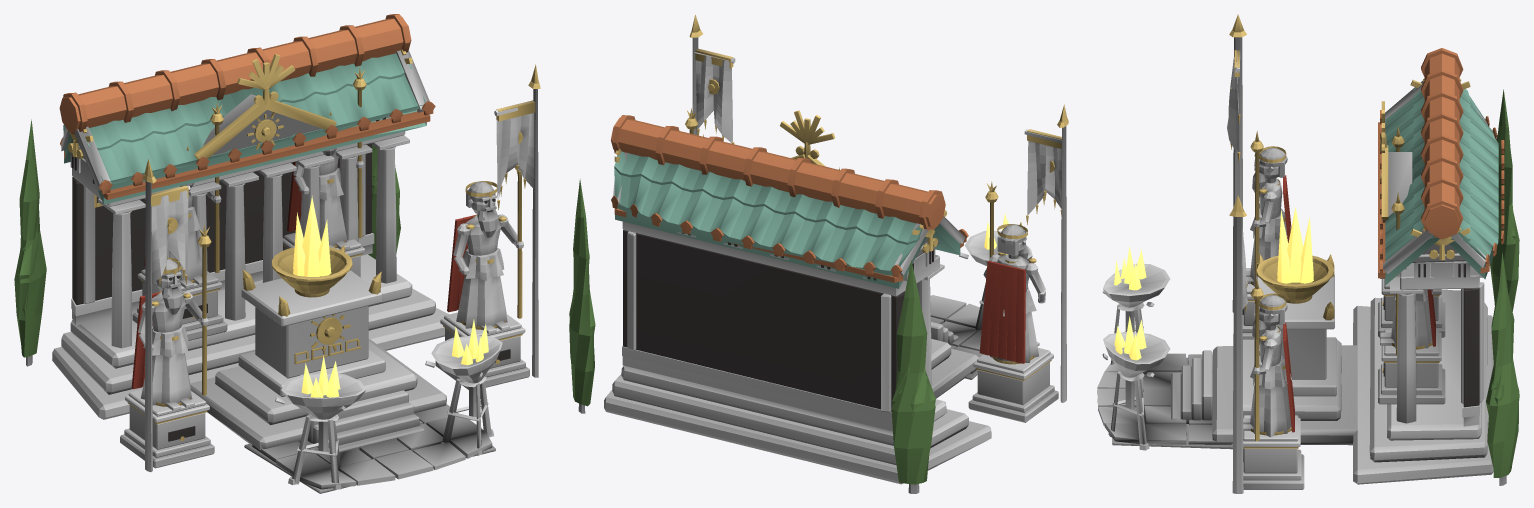
The model's file is altar-of-kings-l3.glb.
The picture shows the model from 3 angles, left to right: view 1: azimuth 30°, elevation 25°; view 2: azimuth 150°, elevation 25°; view 3: azimuth 270°, elevation 25°; orthographic projection. The views are drawn at different scales.
Parts seen in each view (by area): view 1: altar-of-kings-l3; view 2: altar-of-kings-l3; view 3: altar-of-kings-l3.
Part boxes in pixels (x1,y1,x2,y2): altar-of-kings-l3: (14,14,540,493); altar-of-kings-l3: (569,14,1068,493); altar-of-kings-l3: (1097,14,1519,493).
Size of the model in its own units: 1.41 by 1.07 by 1.37.
